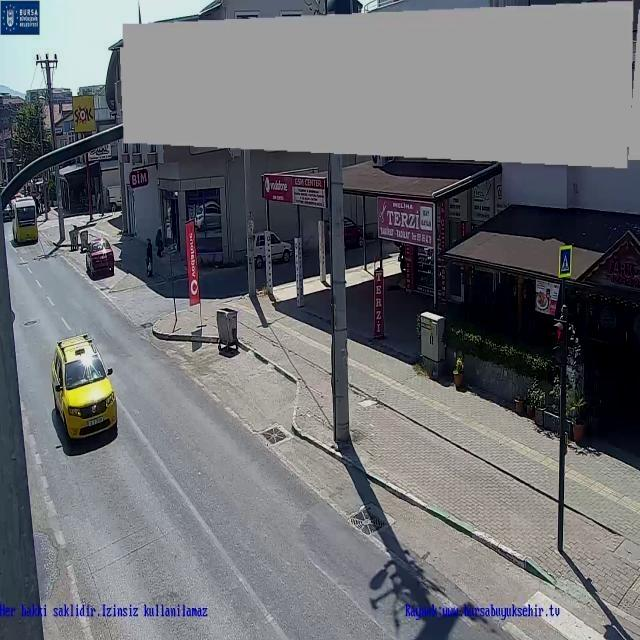Bus: (10, 183, 38, 271)
Car: (50, 328, 131, 453), (77, 215, 124, 295), (239, 230, 303, 282)
